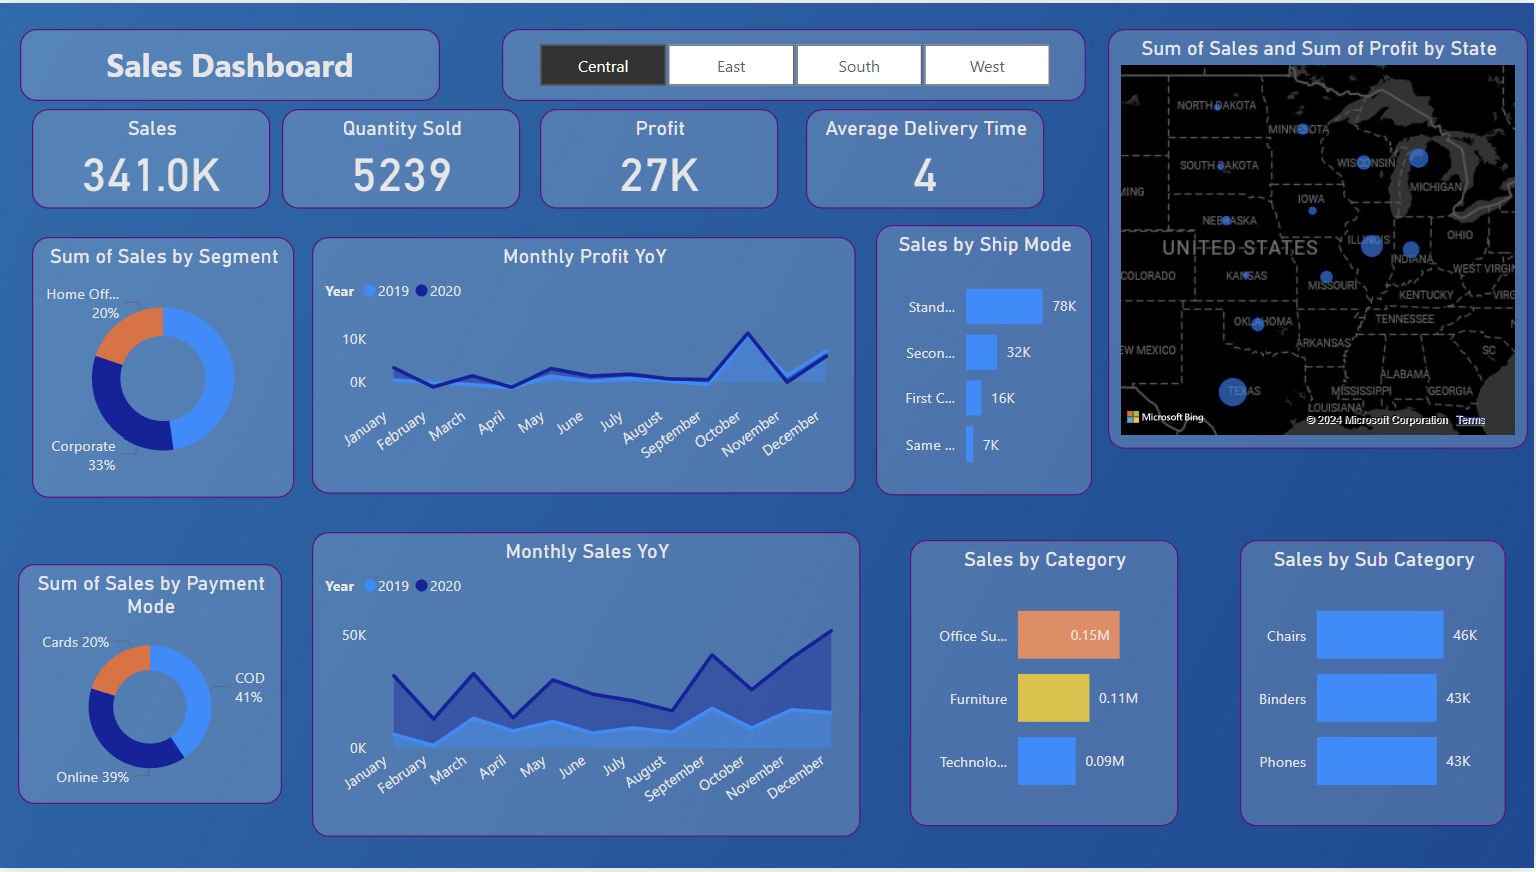

The page's visual inventory and layout, read from the dashboard file:
{"tool":"powerbi","page":{"name":"Page 1","canvas":[1280,720],"ordinal":0},"visuals":[{"type":"clusteredBarChart","title":"Sales by Category","fields":{"Category":["SuperStore_Sales_Dataset.Category"],"Y":["Sum(SuperStore_Sales_Dataset.Sales)"]},"box":[760,446.7,223.3,238.3],"z":0},{"type":"clusteredBarChart","title":"Sales by Sub Category","fields":{"Category":["SuperStore_Sales_Dataset.Sub-Category"],"Y":["Sum(SuperStore_Sales_Dataset.Sales)"]},"box":[1035,446.7,221.7,238.3],"z":1000},{"type":"clusteredBarChart","title":"Sales by Ship Mode","fields":{"Category":["SuperStore_Sales_Dataset.Ship Mode"],"Y":["Sum(SuperStore_Sales_Dataset.Sales)"]},"box":[731.4,184.3,180,224.3],"z":2000},{"type":"stackedAreaChart","title":"Monthly Sales YoY","fields":{"Category":["SuperStore_Sales_Dataset.Order Date.Variation.Date Hierarchy.Month","SuperStore_Sales_Dataset.Order Date.Variation.Date Hierarchy.Day"],"Y":["Sum(SuperStore_Sales_Dataset.Sales)"],"Series":["SuperStore_Sales_Dataset.Order Date.Variation.Date Hierarchy.Year"]},"box":[262,440,457,254],"z":3000},{"type":"stackedAreaChart","title":"Monthly Profit YoY","fields":{"Category":["SuperStore_Sales_Dataset.Order Date.Variation.Date Hierarchy.Month","SuperStore_Sales_Dataset.Order Date.Variation.Date Hierarchy.Day"],"Series":["SuperStore_Sales_Dataset.Order Date.Variation.Date Hierarchy.Year"],"Y":["Sum(SuperStore_Sales_Dataset.Profit)"]},"box":[261.4,195.7,452.9,212.9],"z":4000},{"type":"map","fields":{"Category":["SuperStore_Sales_Dataset.State"],"Size":["Sum(SuperStore_Sales_Dataset.Sales)"]},"box":[925,21.2,350,348.8],"z":5000},{"type":"donutChart","fields":{"Category":["SuperStore_Sales_Dataset.Segment"],"Y":["Sum(SuperStore_Sales_Dataset.Sales)"]},"box":[28.3,195,218.3,216.7],"z":6000},{"type":"donutChart","fields":{"Category":["SuperStore_Sales_Dataset.Payment Mode"],"Y":["Sum(SuperStore_Sales_Dataset.Sales)"]},"box":[16.7,466.7,220,200],"z":7000},{"type":"slicer","fields":{"Values":["SuperStore_Sales_Dataset.Region"]},"box":[420,21.7,486.7,60],"z":8000},{"type":"textbox","box":[18.6,21.4,350,60],"z":9000},{"type":"card","title":"Sales","fields":{"Values":["Sum(SuperStore_Sales_Dataset.Sales)"]},"box":[28.6,88.6,198.6,82.9],"z":10000},{"type":"card","title":"Quantity Sold","fields":{"Values":["Sum(SuperStore_Sales_Dataset.Quantity)"]},"box":[237.1,88.6,198.6,82.9],"z":11000},{"type":"card","title":"Profit","fields":{"Values":["Sum(SuperStore_Sales_Dataset.Profit)"]},"box":[451.4,88.6,198.6,82.9],"z":12000},{"type":"card","title":" Average Delivery Time","fields":{"Values":["Avg(SuperStore_Sales_Dataset.AvgDelivery)"]},"box":[672.9,88.6,198.6,82.9],"z":13000}]}

Visuals, with their boxes in screenshot pixels (x1, y1, x2, y2), scaled from the page's 1280x720 canvas onto the 1536x872 screenshot:
"Sales by Category" clusteredBarChart: region(912, 541, 1180, 830)
"Sales by Sub Category" clusteredBarChart: region(1242, 541, 1508, 830)
"Sales by Ship Mode" clusteredBarChart: region(878, 223, 1094, 495)
"Monthly Sales YoY" stackedAreaChart: region(314, 533, 863, 841)
"Monthly Profit YoY" stackedAreaChart: region(314, 237, 857, 495)
map - SuperStore_Sales_Dataset.State x Sum(SuperStore_Sales_Dataset.Sales): region(1110, 26, 1530, 448)
donutChart - SuperStore_Sales_Dataset.Segment x Sum(SuperStore_Sales_Dataset.Sales): region(34, 236, 296, 499)
donutChart - SuperStore_Sales_Dataset.Payment Mode x Sum(SuperStore_Sales_Dataset.Sales): region(20, 565, 284, 807)
slicer - SuperStore_Sales_Dataset.Region: region(504, 26, 1088, 99)
textbox: region(22, 26, 442, 99)
"Sales" card: region(34, 107, 273, 208)
"Quantity Sold" card: region(285, 107, 523, 208)
"Profit" card: region(542, 107, 780, 208)
" Average Delivery Time" card: region(807, 107, 1046, 208)
